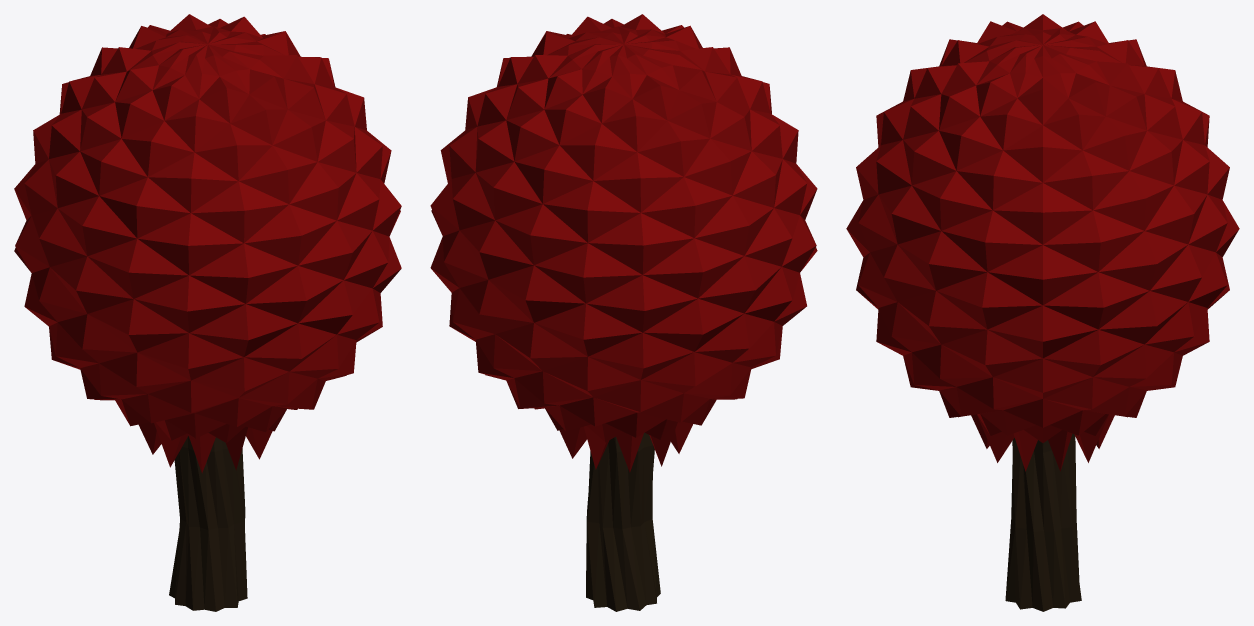
File: NormalTree_Red.fbx
3 renders of one model, left to right at view 1: azimuth 30°, elevation 25°; view 2: azimuth 150°, elevation 25°; view 3: azimuth 270°, elevation 25°, orthographic.
Visible parts, largest first — view 1: pSphere1, pCylinder1; view 2: pSphere1, pCylinder1; view 3: pSphere1, pCylinder1.
Boxes of the visible parts, x1=… form: pSphere1: x1=14, y1=14, x2=401, y2=473; pCylinder1: x1=169, y1=436, x2=247, y2=611; pSphere1: x1=430, y1=14, x2=817, y2=472; pCylinder1: x1=586, y1=432, x2=660, y2=611; pSphere1: x1=846, y1=14, x2=1239, y2=471; pCylinder1: x1=1005, y1=433, x2=1081, y2=611.
Bounding box in the file's own units: 11.59 × 18.17 × 11.73.
